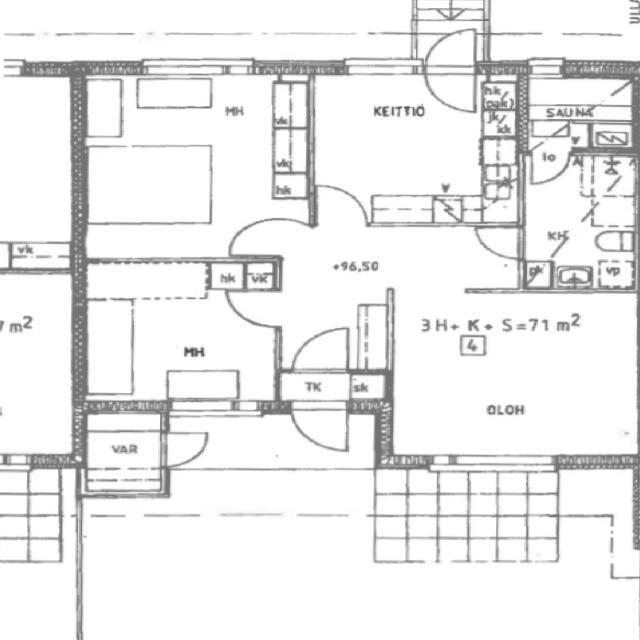door: (238, 205, 313, 258), (292, 400, 347, 455), (425, 23, 475, 75), (425, 60, 475, 111), (292, 328, 347, 373), (228, 292, 282, 326), (319, 187, 366, 226), (161, 433, 214, 465), (477, 228, 525, 258), (532, 150, 568, 181)
